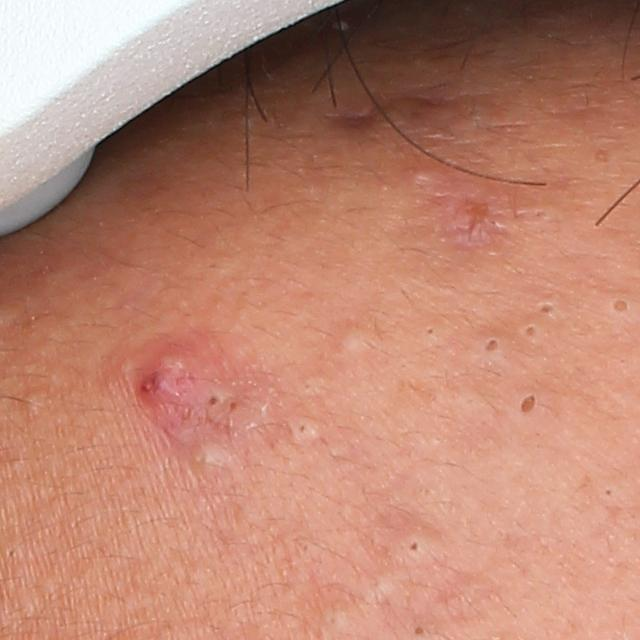comedo: (512, 388, 540, 421), (287, 417, 321, 443), (19, 389, 51, 416), (342, 328, 372, 356), (606, 295, 638, 320), (532, 295, 559, 320), (422, 321, 443, 345), (520, 323, 545, 342), (597, 481, 618, 502), (483, 335, 504, 355), (5, 543, 21, 562), (411, 623, 430, 636), (225, 398, 240, 413)
papule: (134, 326, 223, 418), (441, 182, 525, 268)
